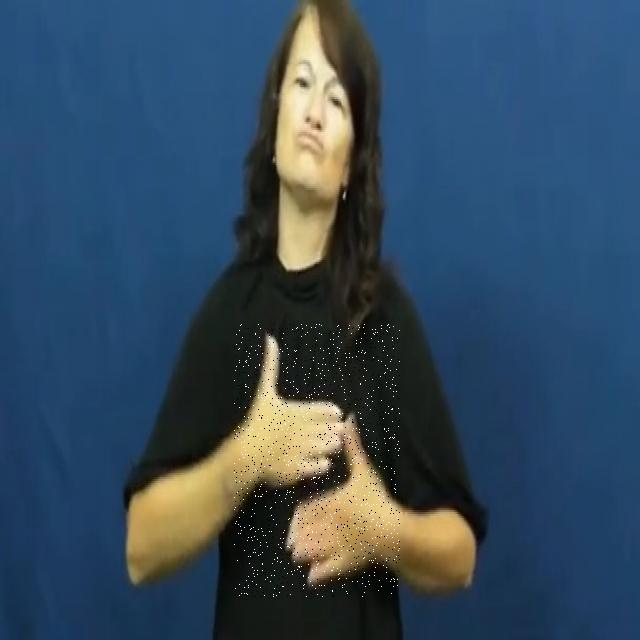enjoy: (234, 324, 400, 597)
